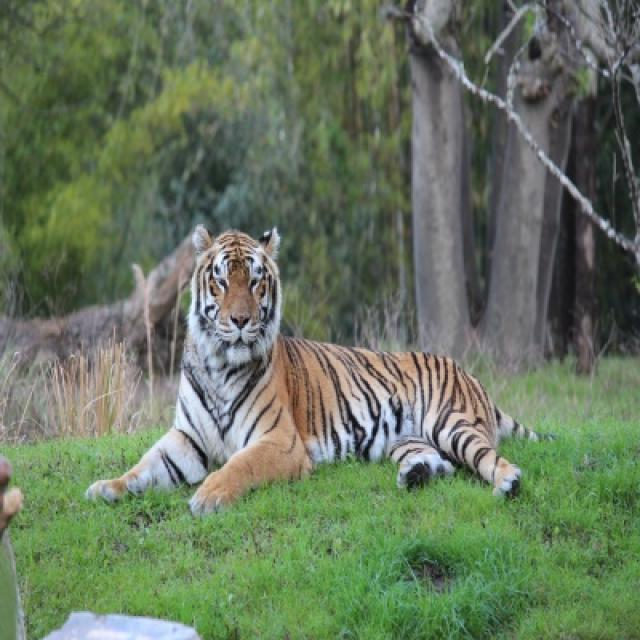Tiger: (70, 221, 534, 513)
